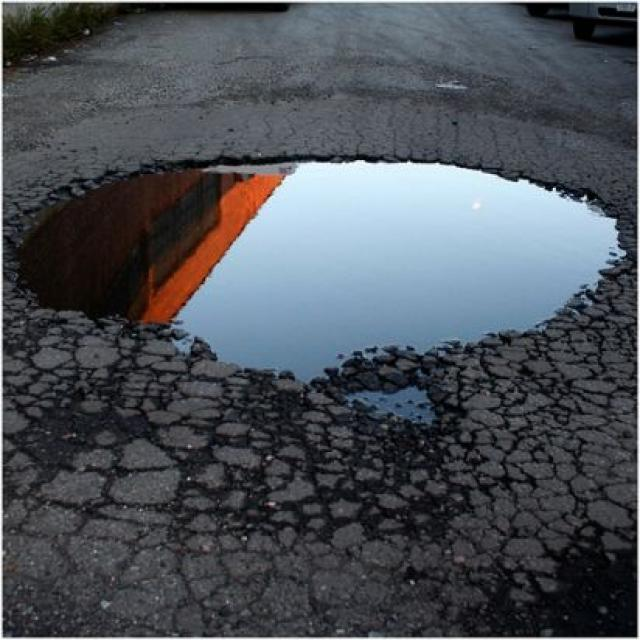Pothole: (2, 146, 625, 382)
